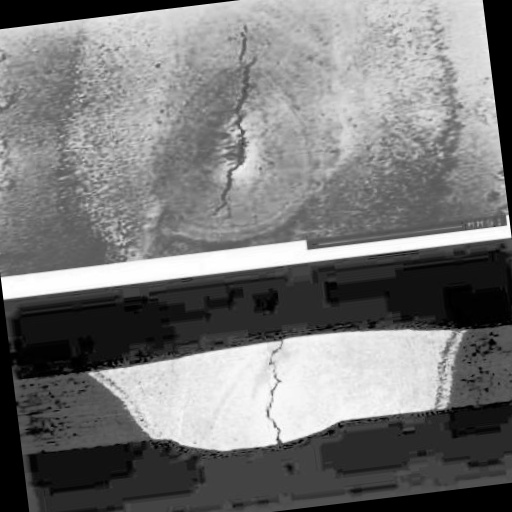crack: (169, 18, 282, 229), (246, 337, 298, 445)
